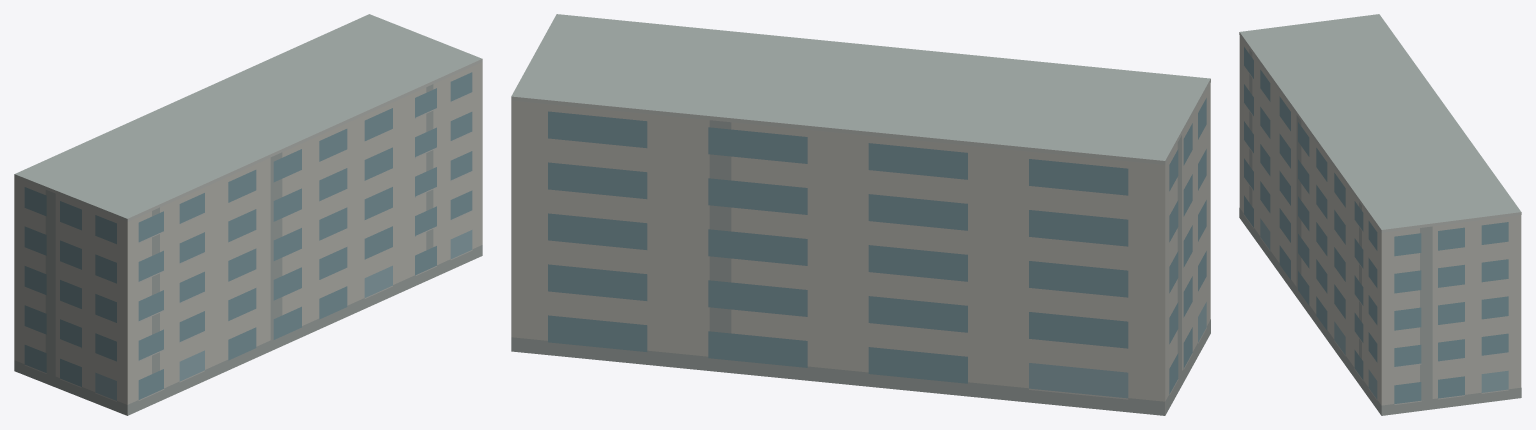
The model's file is residential-8df27b1d-732f-4608-944c-7a13df08a5b1.glb.
The picture shows the model from 3 angles, left to right: view 1: azimuth 30°, elevation 25°; view 2: azimuth 150°, elevation 25°; view 3: azimuth 270°, elevation 25°; orthographic projection. The views are drawn at different scales.
Parts seen in each view (by area): view 1: residential-8df27b1d-732f-4608-944c-7a13df08a5b1.tmp; view 2: residential-8df27b1d-732f-4608-944c-7a13df08a5b1.tmp; view 3: residential-8df27b1d-732f-4608-944c-7a13df08a5b1.tmp.
Part boxes in pixels (box(x1,y1,x2,y2)): residential-8df27b1d-732f-4608-944c-7a13df08a5b1.tmp: box(14, 14, 482, 415); residential-8df27b1d-732f-4608-944c-7a13df08a5b1.tmp: box(511, 14, 1210, 415); residential-8df27b1d-732f-4608-944c-7a13df08a5b1.tmp: box(1239, 14, 1521, 415).
Bounding box in the file's own units: 38.01 × 15.25 × 20.97.
